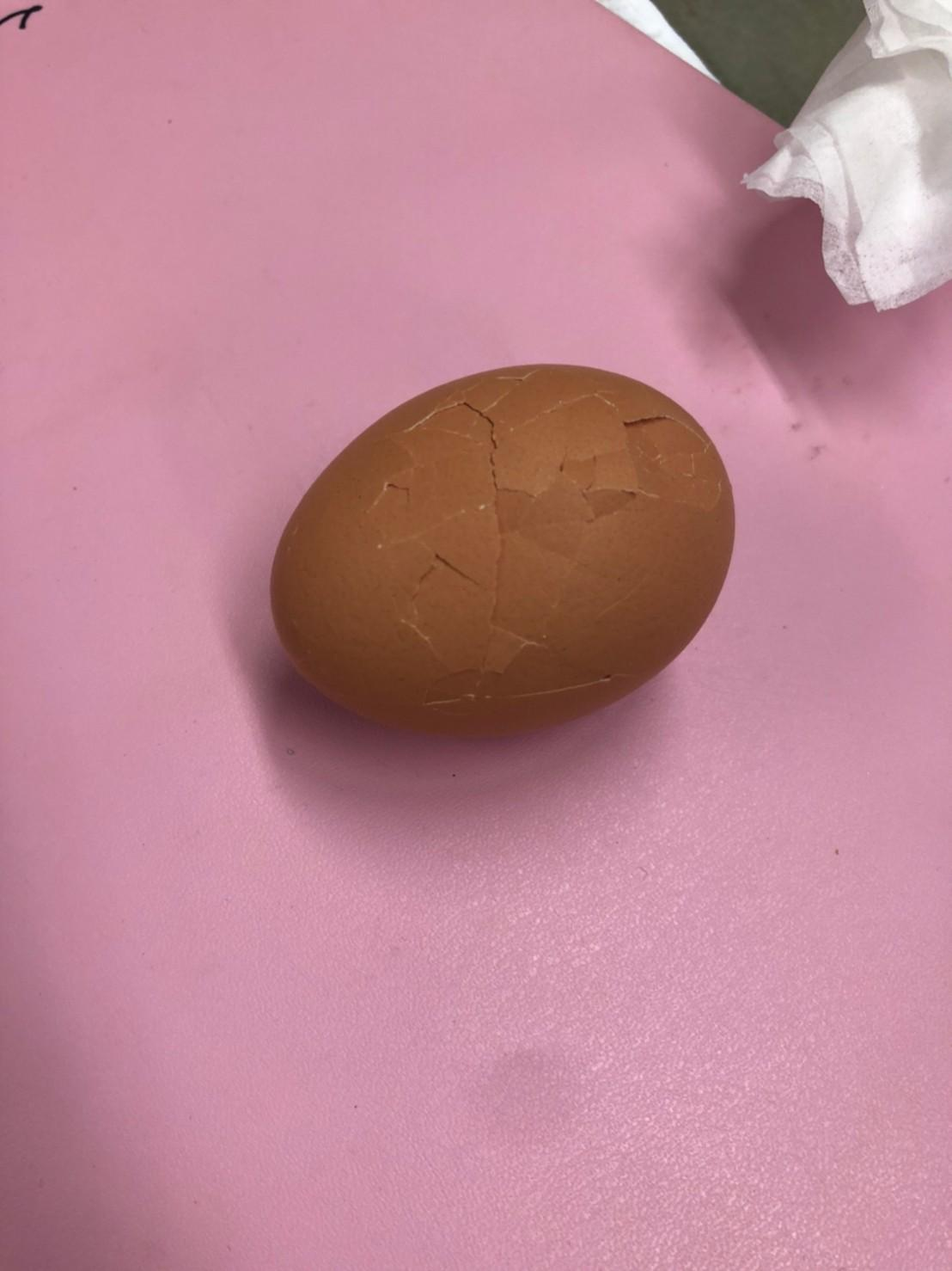egg: (263, 348, 745, 743)
